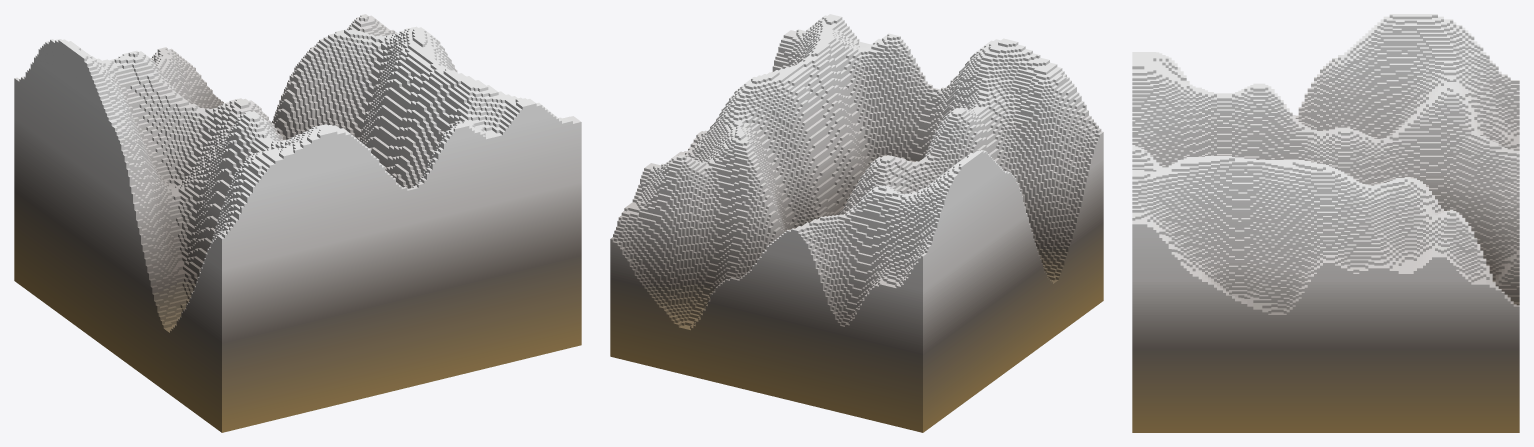
File: tundra.fbx
3 views of the same model, side by side, from view 1: azimuth 30°, elevation 25°; view 2: azimuth 150°, elevation 25°; view 3: azimuth 270°, elevation 25° (orthographic). The views are drawn at different scales.
Parts seen in each view (by area): view 1: Terrain; view 2: Terrain; view 3: Terrain.
Boxes of the visible parts, box(x1,y1,x2,y2) form: Terrain: box(14, 14, 581, 432); Terrain: box(610, 14, 1103, 432); Terrain: box(1132, 14, 1519, 432).
Bounding box in the file's own units: 128 × 93 × 128.
